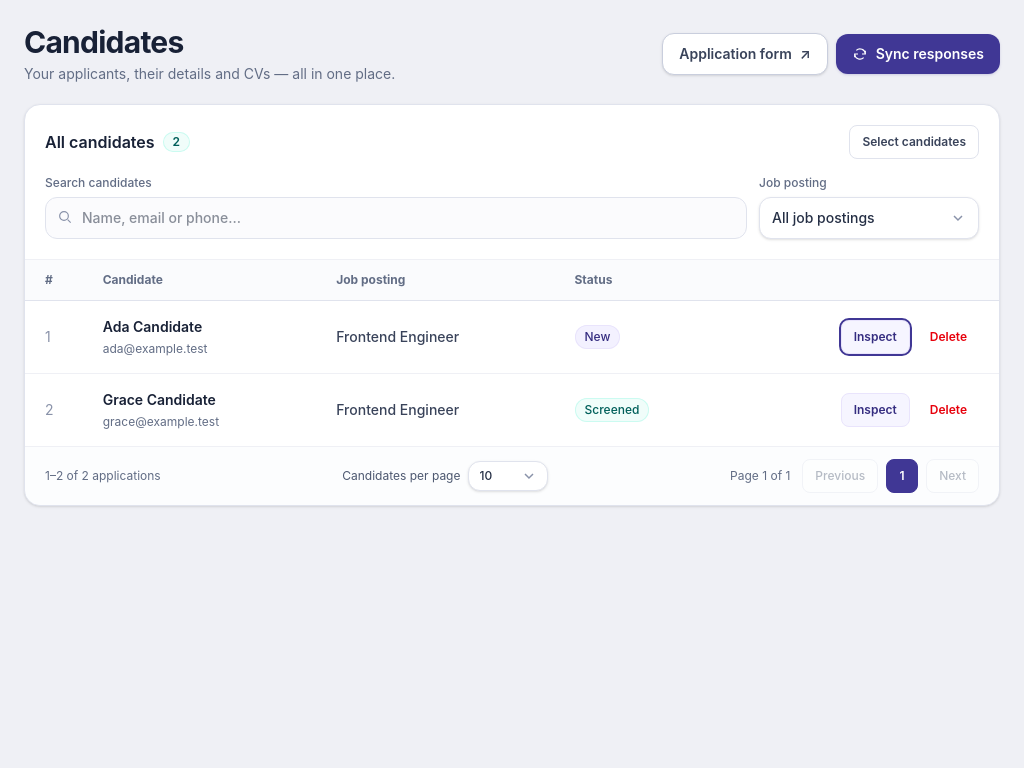
it: opens details in a top-level modal and restores focus after closing
Click the button named "Inspect Ada Candidate": (875, 337) [841, 320, 910, 354]
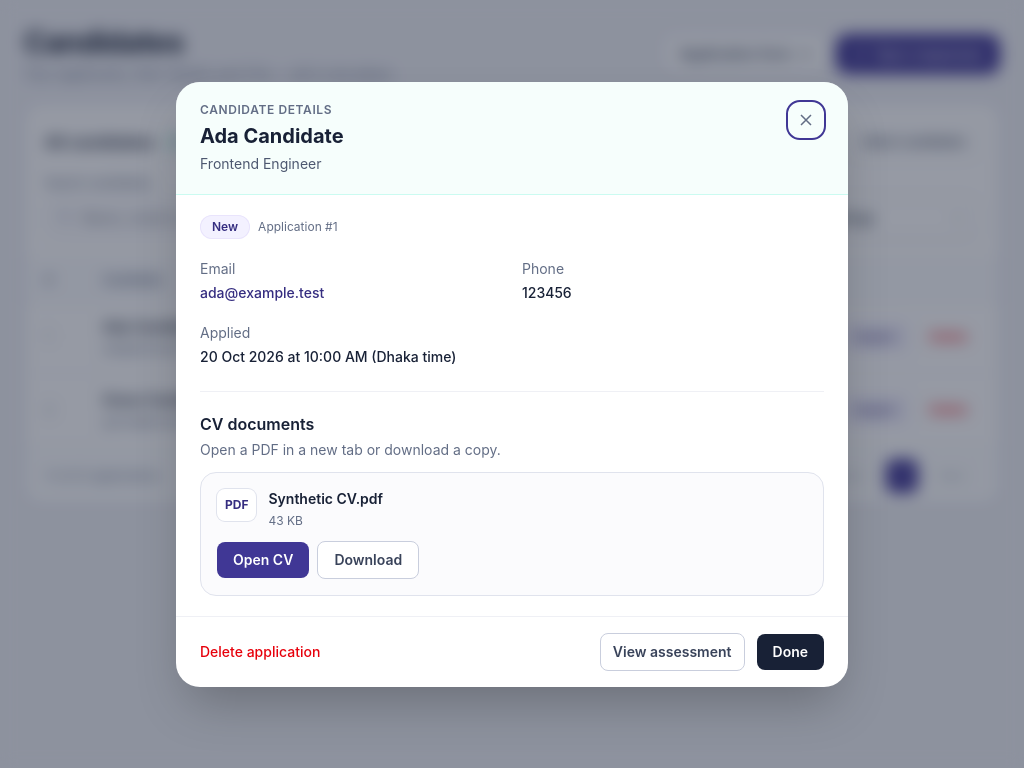
Now the text "123456" is shown, box [522, 284, 572, 300]
Now the text "Synthetic CV.pdf" is shown, box [268, 488, 383, 508]
Click the button named "Close candidate details": (806, 120) [788, 102, 824, 138]
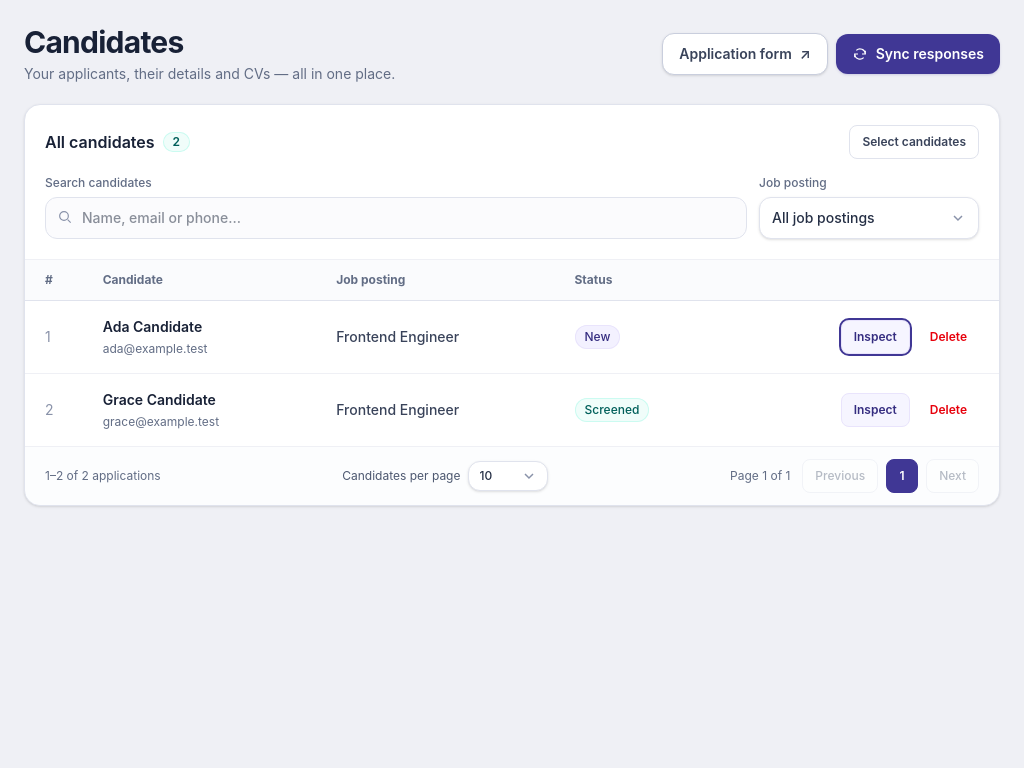
Now the dialog is gone
